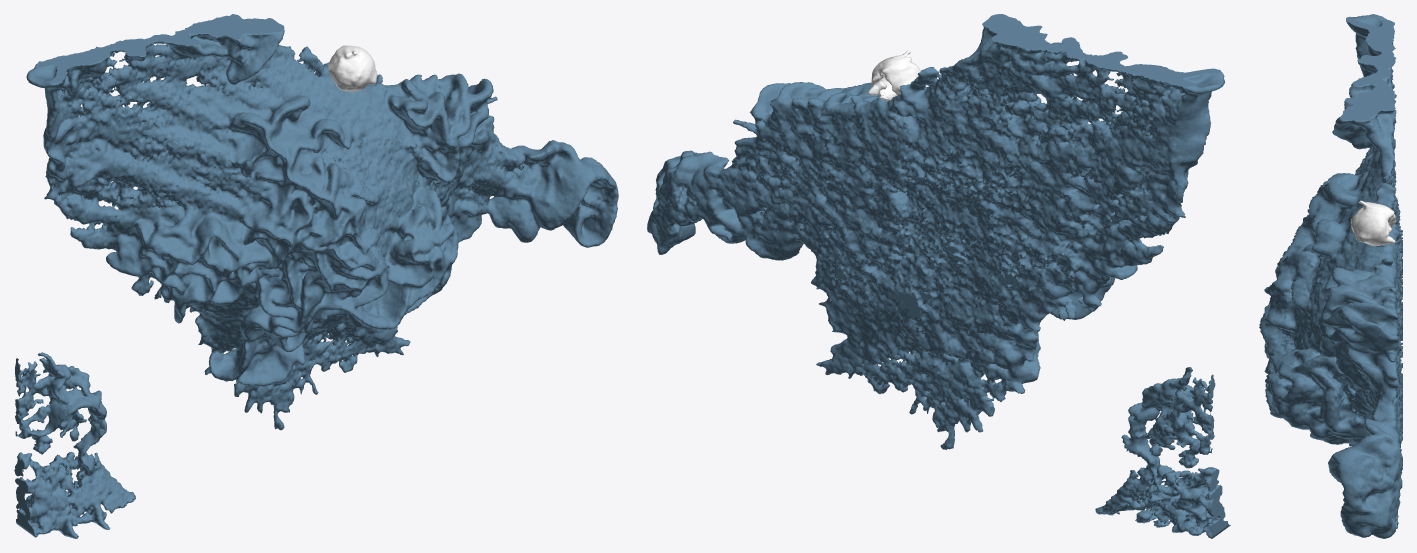
3 renders of one model, left to right at view 1: azimuth 30°, elevation 25°; view 2: azimuth 150°, elevation 25°; view 3: azimuth 270°, elevation 25°, orthographic. The views are drawn at different scales.
Visible parts, largest first — view 1: surface (×2); view 2: surface (×2); view 3: surface (×2).
Part boxes in pixels (x1,y1,x2,y2): surface (×2): (14,14,618,538); surface (×2): (647,14,1230,538); surface (×2): (1259,14,1402,538).
Bounding box in the file's own units: 583 × 436 × 137.
